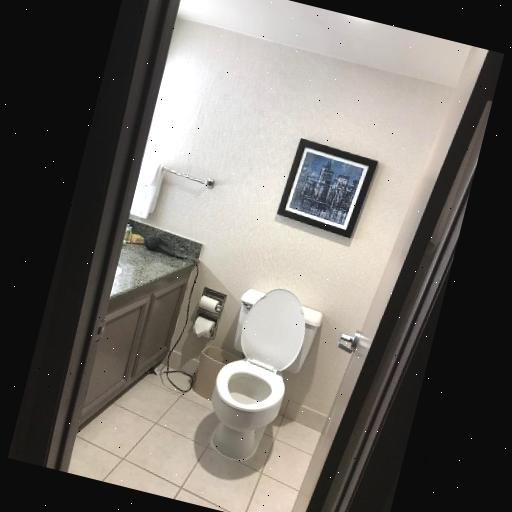clean_floor: (64, 365, 319, 512)
clean_sink: (77, 218, 203, 421)
clean_toilet: (193, 271, 335, 473)
